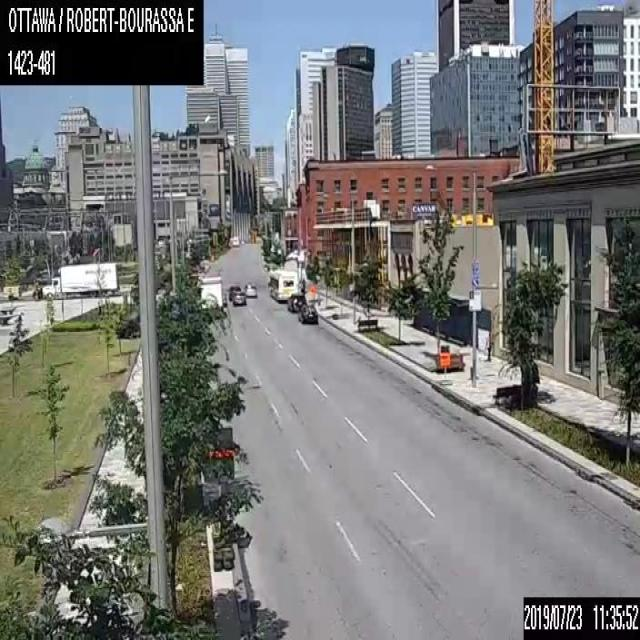bus: (267, 268, 298, 303)
construction: (204, 427, 233, 568), (439, 351, 450, 384)
vehicle: (41, 260, 117, 299), (199, 275, 222, 308), (298, 302, 318, 324), (286, 293, 306, 312), (231, 289, 245, 305), (228, 285, 240, 300), (244, 283, 256, 297)
